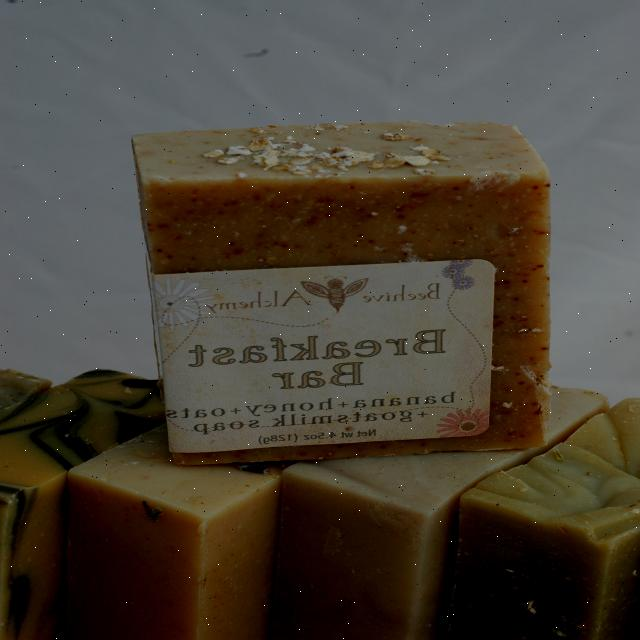soap: (112, 104, 564, 472)
